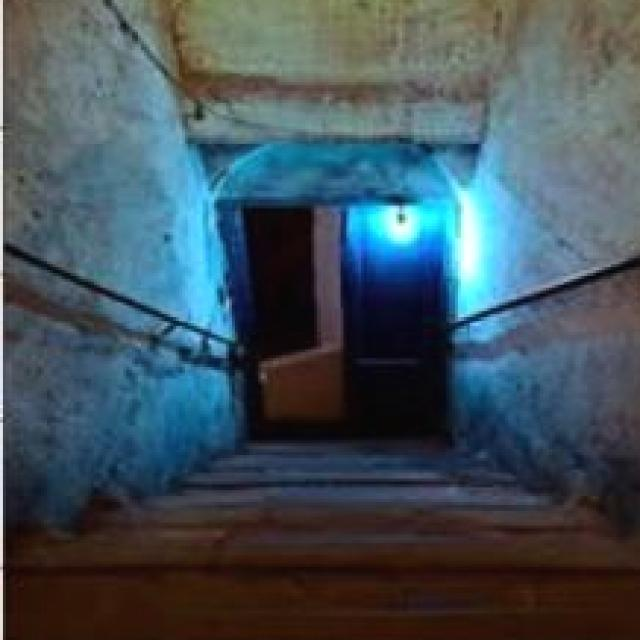downstair: (104, 456, 532, 612)
